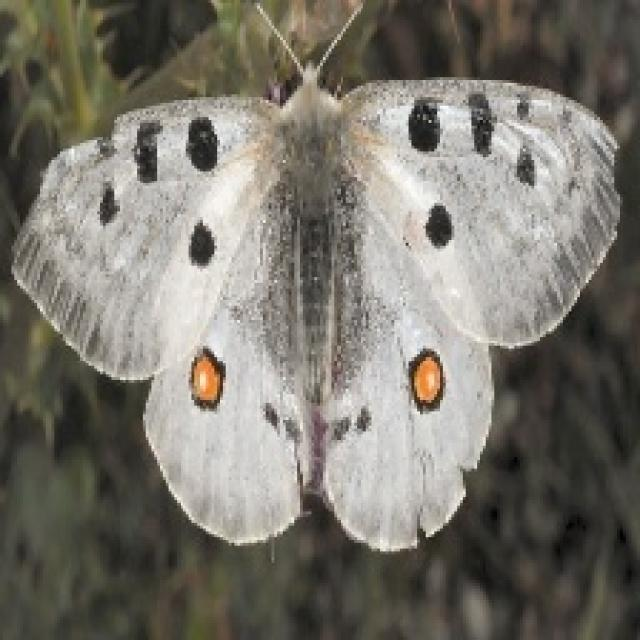butterfly: (8, 0, 622, 554)
